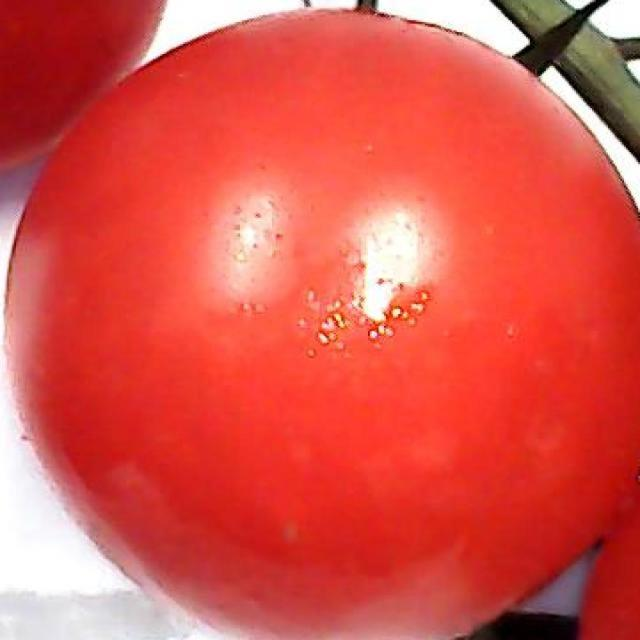Healthy Fruit: (2, 28, 402, 427)
